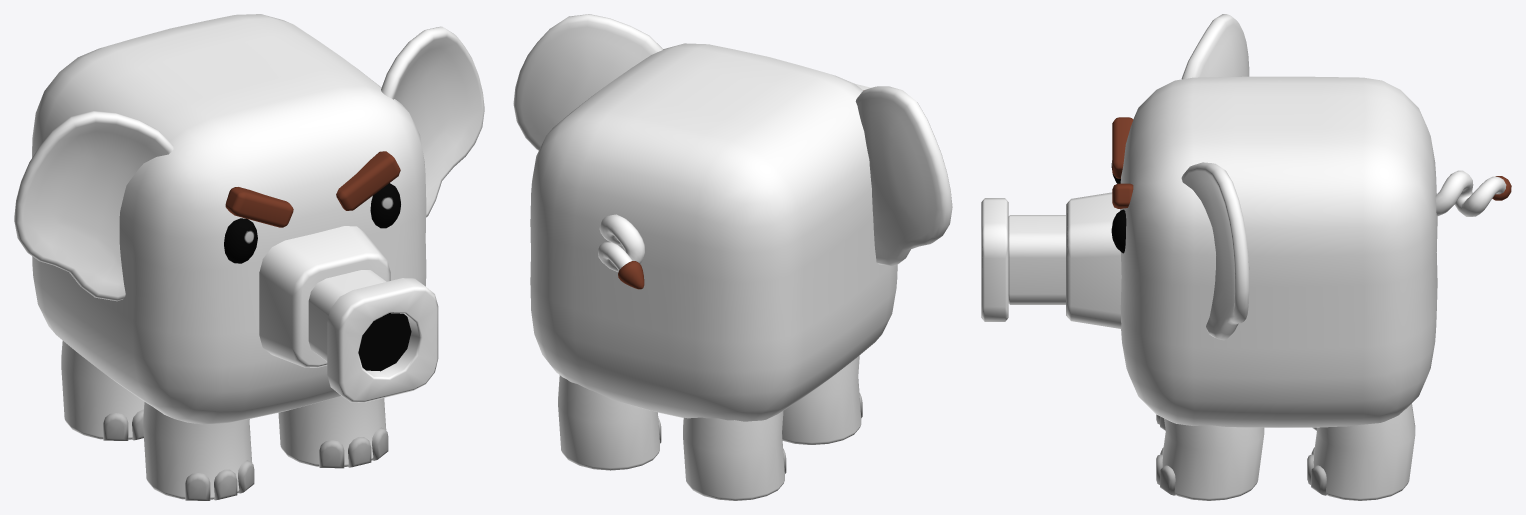
File: Elephant 1.fbx
3 renders of one model, left to right at view 1: azimuth 30°, elevation 25°; view 2: azimuth 150°, elevation 25°; view 3: azimuth 270°, elevation 25°, orthographic. The views are drawn at different scales.
Parts seen in each view (by area): view 1: Body, Ear_R, Legs_Front, Trunk_3, Ear_L, Trunk_1, Legs_Back, Eyebrows, Trunk_2; view 2: Body, Legs_Back, Ear_R, Ear_L, Legs_Front; view 3: Body, Legs_Back, Legs_Front, Trunk_1, Ear_L, Trunk_2, Trunk_3, Ear_R, Eyebrows.
Part boxes in pixels (x1,y1,x2,y2): Body: [32, 14, 426, 424]; Ear_R: [14, 111, 173, 301]; Legs_Front: [143, 396, 388, 500]; Trunk_3: [327, 278, 438, 402]; Ear_L: [381, 26, 484, 217]; Trunk_1: [259, 226, 390, 367]; Legs_Back: [61, 341, 144, 440]; Eyebrows: [225, 151, 400, 227]; Trunk_2: [308, 270, 386, 361]; Body: [530, 43, 897, 421]; Legs_Back: [558, 375, 786, 500]; Ear_R: [855, 86, 952, 265]; Ear_L: [513, 14, 662, 150]; Legs_Front: [782, 355, 862, 444]; Body: [1111, 76, 1511, 427]; Legs_Back: [1307, 403, 1415, 500]; Legs_Front: [1156, 414, 1264, 500]; Trunk_1: [1066, 192, 1121, 328]; Ear_L: [1181, 162, 1249, 340]; Trunk_2: [1008, 215, 1065, 304]; Trunk_3: [981, 198, 1008, 321]; Ear_R: [1181, 14, 1249, 79]; Eyebrows: [1112, 117, 1133, 208].
Size of the model in its own units: 243 by 192 by 258.
Materials: 2 (2 with a texture image).
